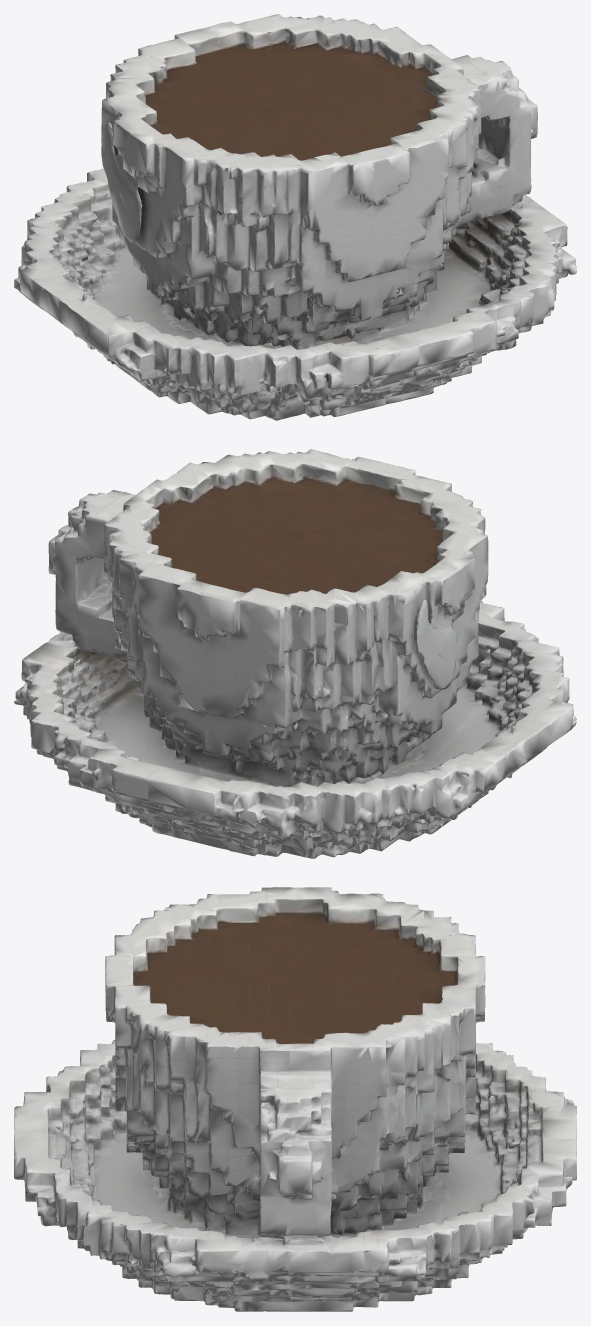
The model's file is coffe final 2.glb.
3 views of the same model, one above another, from view 1: azimuth 30°, elevation 25°; view 2: azimuth 150°, elevation 25°; view 3: azimuth 270°, elevation 25° (orthographic). The views are drawn at different scales.
Parts seen in each view (by area): view 1: Mesh_0; view 2: Mesh_0; view 3: Mesh_0.
Part boxes in pixels (<box>): Mesh_0: <box>14,14,576,420</box>; Mesh_0: <box>14,449,576,858</box>; Mesh_0: <box>14,887,576,1311</box>.
Bounding box in the file's own units: 2 × 0.9989 × 1.97.
Materials: 1 (1 with a texture image).
